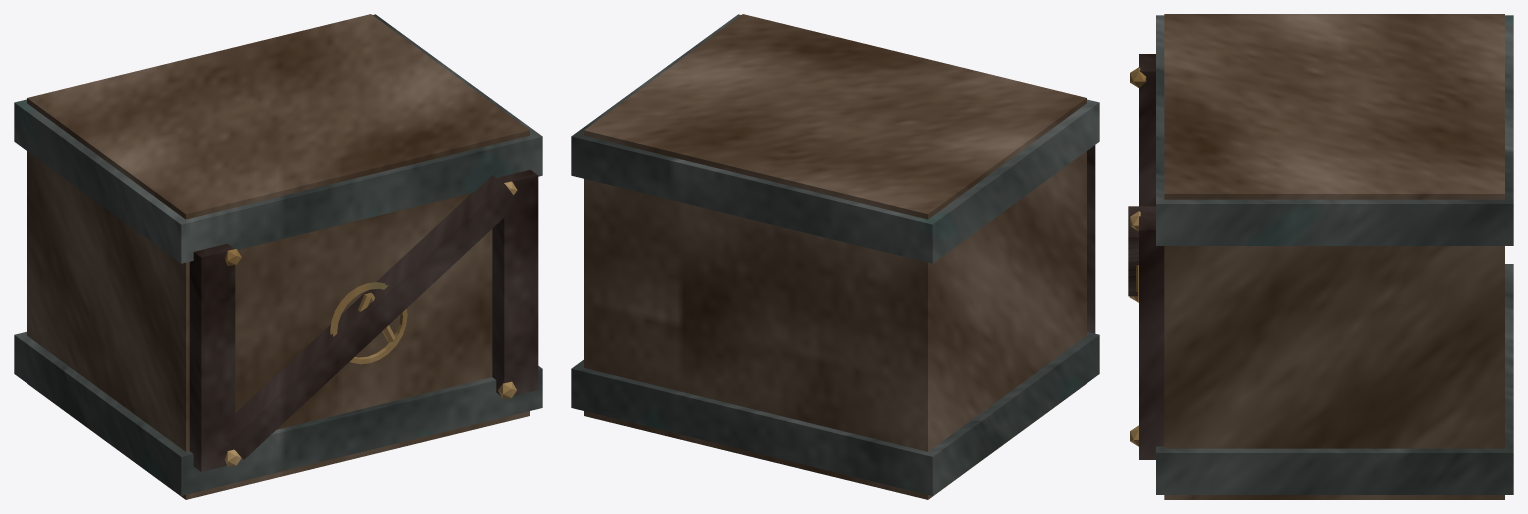
File: 0726_supply_crate_01.glb
3 views of the same model, side by side, from view 1: azimuth 30°, elevation 25°; view 2: azimuth 150°, elevation 25°; view 3: azimuth 270°, elevation 25° (orthographic). The views are drawn at different scales.
Visible parts, largest first — view 1: wood, iron, wood_dark, brass; view 2: wood, iron, wood_dark; view 3: wood, iron, wood_dark, brass.
Part boxes in pixels (x1=…): wood: x1=27, y1=14, x2=529, y2=499; iron: x1=14, y1=14, x2=542, y2=495; wood_dark: x1=189, y1=170, x2=538, y2=471; brass: x1=225, y1=181, x2=517, y2=466; wood: x1=584, y1=14, x2=1086, y2=499; iron: x1=571, y1=14, x2=1099, y2=495; wood_dark: x1=1087, y1=145, x2=1095, y2=333; wood: x1=1164, y1=14, x2=1504, y2=499; iron: x1=1156, y1=15, x2=1513, y2=494; wood_dark: x1=1128, y1=54, x2=1164, y2=459; brass: x1=1129, y1=67, x2=1146, y2=446.
Size of the model in its own units: 1.06 by 0.8024 by 0.9151.
4 materials, 4 textured.
